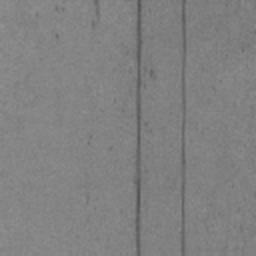Scratches: (134, 0, 143, 256), (181, 0, 187, 256), (93, 0, 100, 18)
